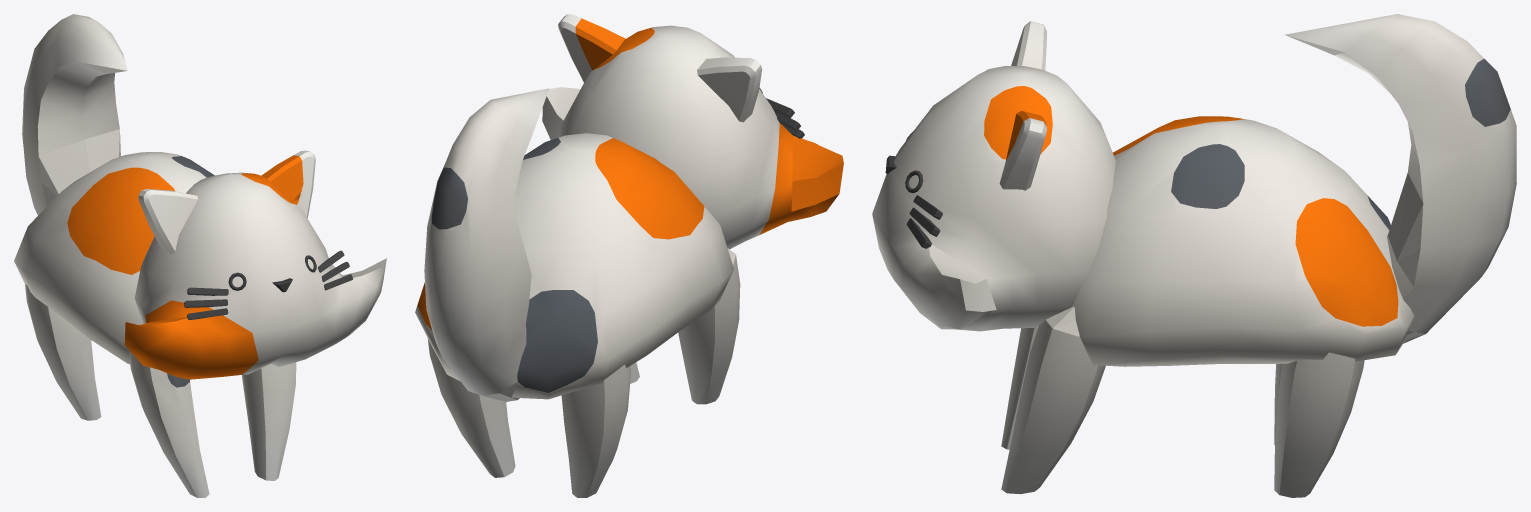
Rendered from Cat_Shocked.FBX.
The picture shows the model from 3 angles, left to right: view 1: azimuth 30°, elevation 25°; view 2: azimuth 150°, elevation 25°; view 3: azimuth 270°, elevation 25°; orthographic projection. The views are drawn at different scales.
Visible parts, largest first — view 1: Cat_Shocked; view 2: Cat_Shocked; view 3: Cat_Shocked.
Boxes of the visible parts, bbox=[...] form: Cat_Shocked: bbox=[14, 14, 386, 497]; Cat_Shocked: bbox=[415, 14, 843, 497]; Cat_Shocked: bbox=[872, 14, 1516, 497].
Bounding box in the file's own units: 0.4859 × 0.639 × 0.8117.
